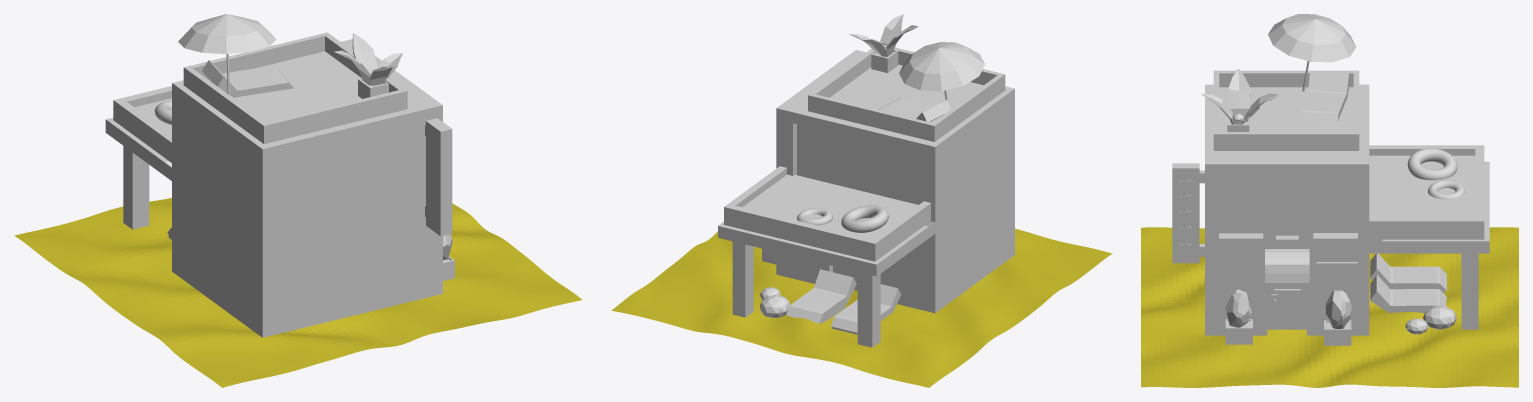
3 renders of one model, left to right at view 1: azimuth 30°, elevation 25°; view 2: azimuth 150°, elevation 25°; view 3: azimuth 270°, elevation 25°, orthographic. The views are drawn at different scales.
Parts seen in each view (by area): view 1: 平面.004, 平面; view 2: 平面.004, 平面; view 3: 平面.004, 平面.
Part boxes in pixels (<box>): 平面.004: <box>105,14,454,337</box>; 平面: <box>14,198,582,387</box>; 平面.004: <box>718,14,1014,347</box>; 平面: <box>611,228,1112,387</box>; 平面.004: <box>1172,14,1489,345</box>; 平面: <box>1141,227,1518,387</box>.
Bounding box in the file's own units: 1304 × 979 × 1304.
